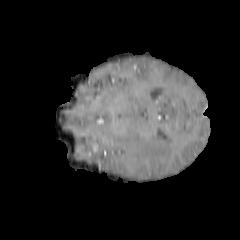glioma: (108, 130, 173, 173)
